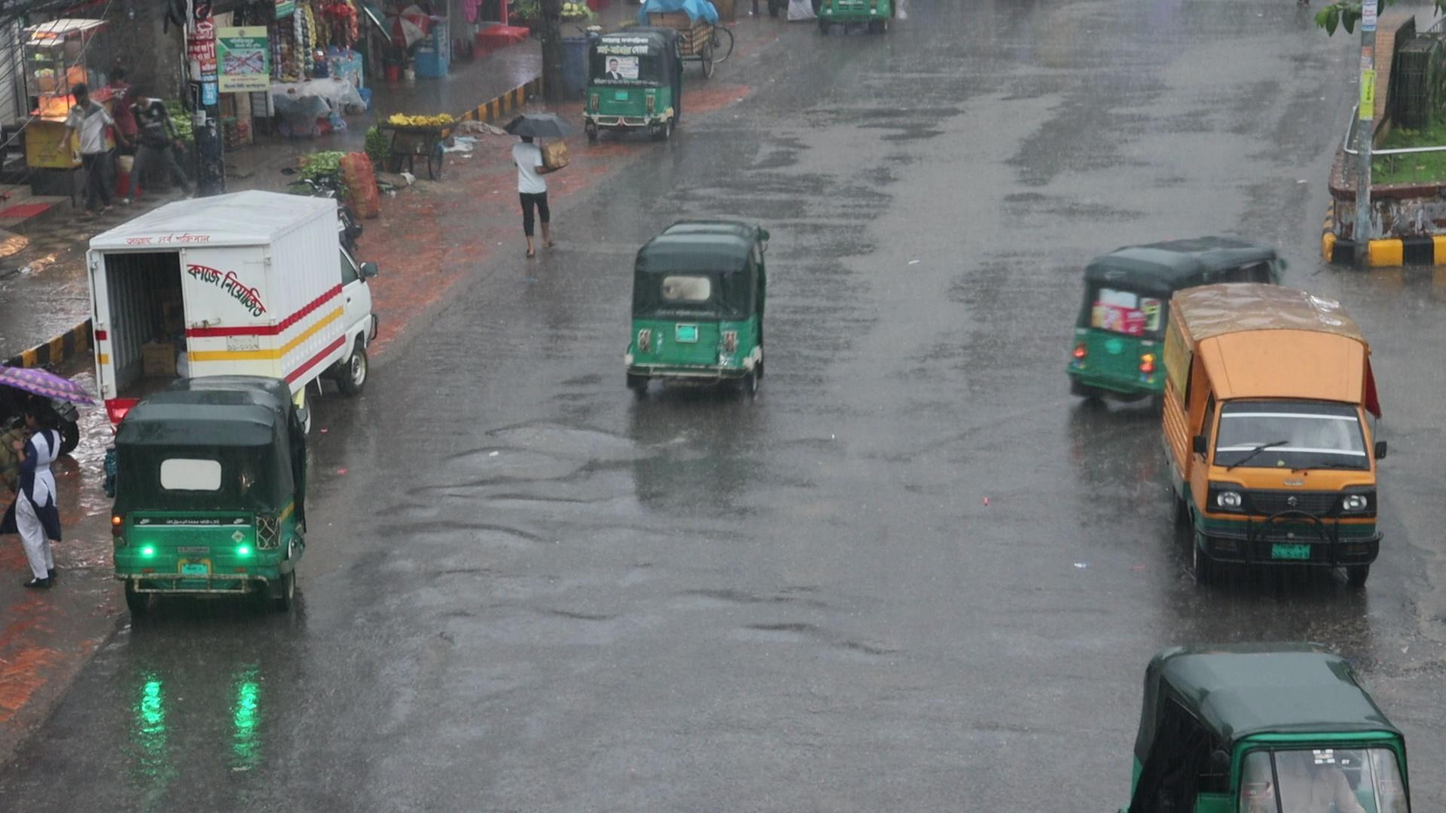Truck: (1153, 274, 1390, 593)
